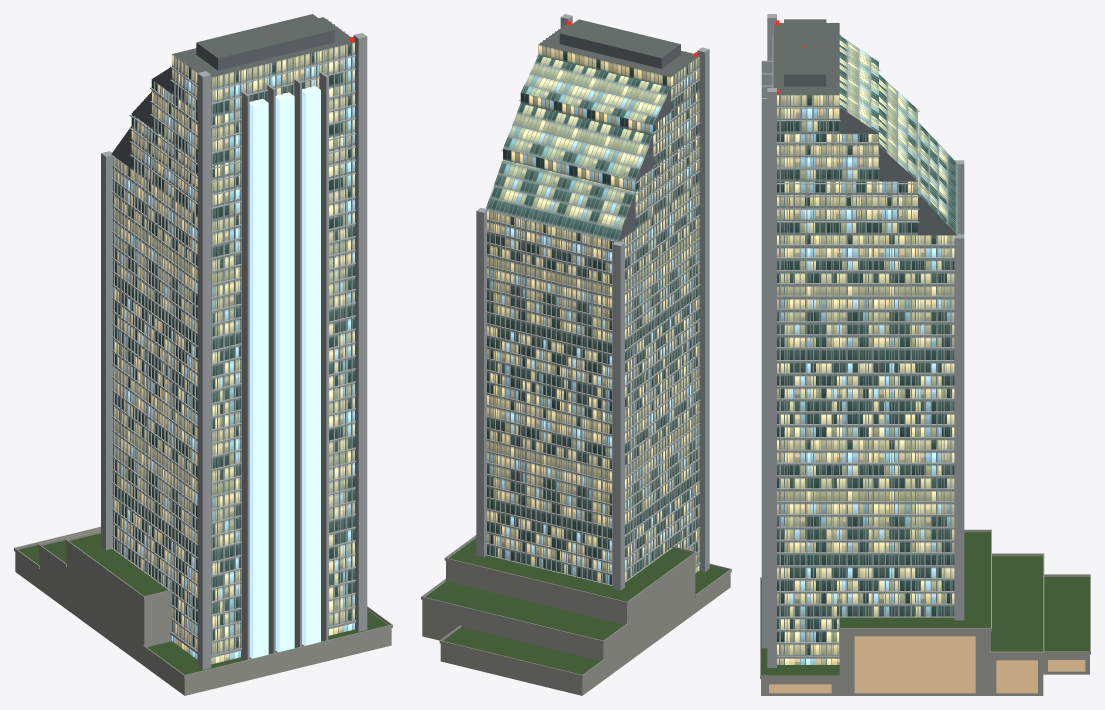
Rendered from izumi_garden_tower.glb.
The picture shows the model from 3 angles, left to right: view 1: azimuth 30°, elevation 25°; view 2: azimuth 150°, elevation 25°; view 3: azimuth 270°, elevation 25°; orthographic projection. The views are drawn at different scales.
Parts seen in each view (by area): view 1: izumi_garden_tower; view 2: izumi_garden_tower; view 3: izumi_garden_tower.
Part boxes in pixels (box(x1,y1,x2,y2)): izumi_garden_tower: box(14, 14, 392, 695); izumi_garden_tower: box(421, 14, 731, 695); izumi_garden_tower: box(760, 14, 1090, 695).
Size of the model in its own units: 71 by 201 by 100.
2 materials, 2 textured.
